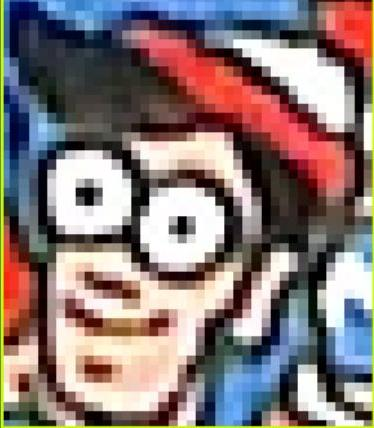waldos: (9, 3, 363, 423)
